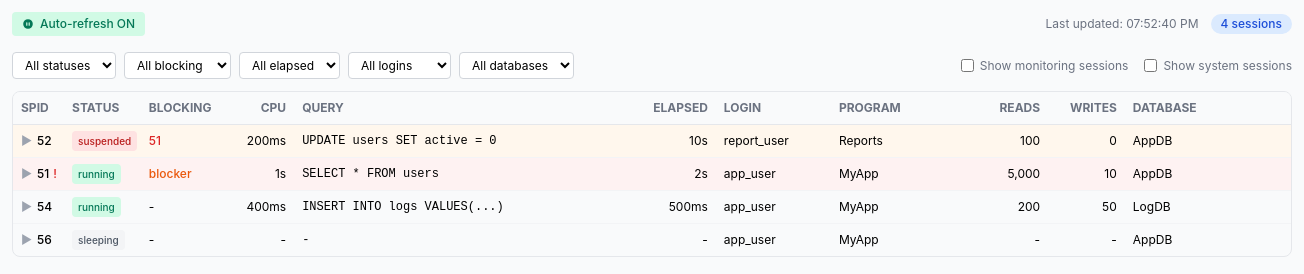
Test: CurrentActivity › filters by blocking (is blocked)
Select "Is blocked" in the dropdown with test id "filter-blocking" at (178, 66), box [124,52,231,79]
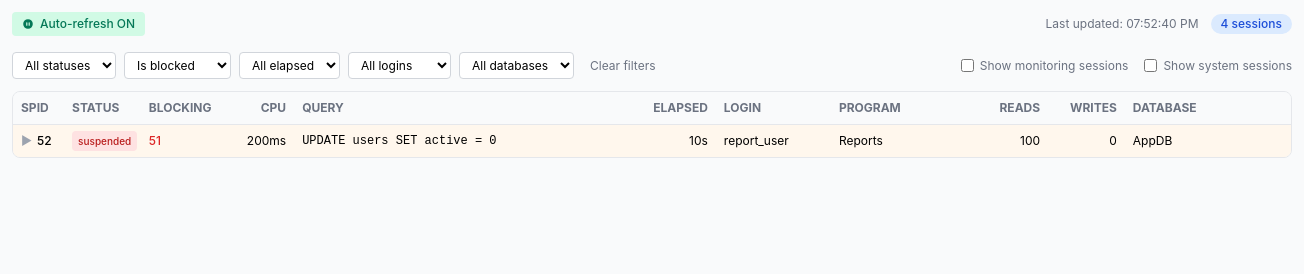
Expected: the row with test id "session-row-52" is shown, [13,124,1291,157]
Expected: the row with test id "session-row-51" is gone
Expected: the row with test id "session-row-54" is gone
